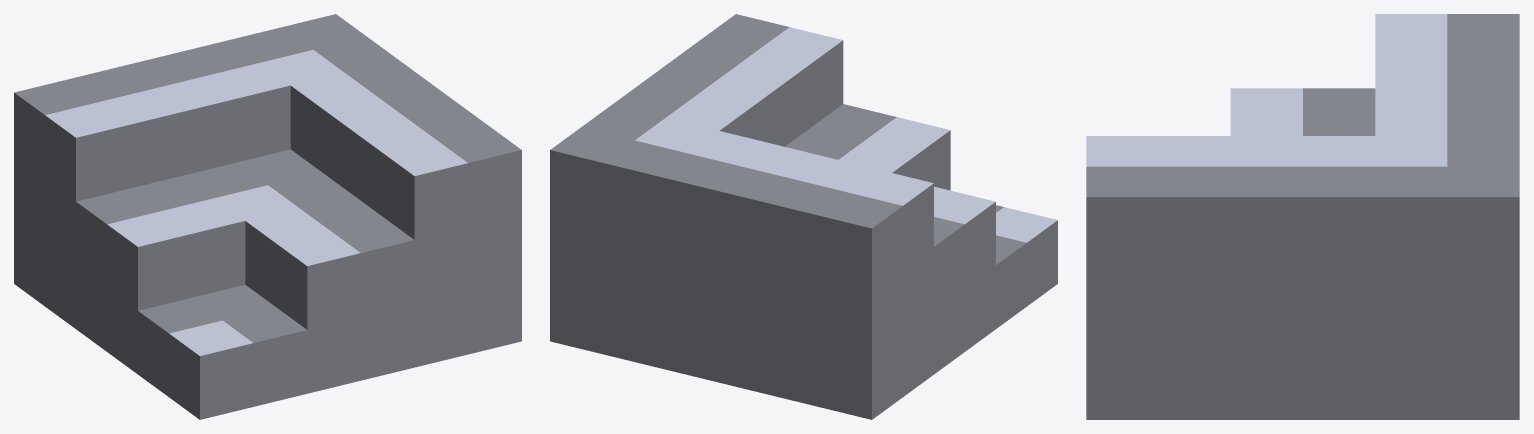
3 renders of one model, left to right at view 1: azimuth 30°, elevation 25°; view 2: azimuth 150°, elevation 25°; view 3: azimuth 270°, elevation 25°, orthographic. The views are drawn at different scales.
Parts seen in each view (by area): view 1: object_071; view 2: object_071; view 3: object_071.
Part boxes in pixels (x1,y1,x2,y2): object_071: [14, 14, 521, 419]; object_071: [550, 14, 1057, 419]; object_071: [1086, 14, 1519, 419].
Bounding box in the file's own units: 0.2475 × 0.1406 × 0.2475.
